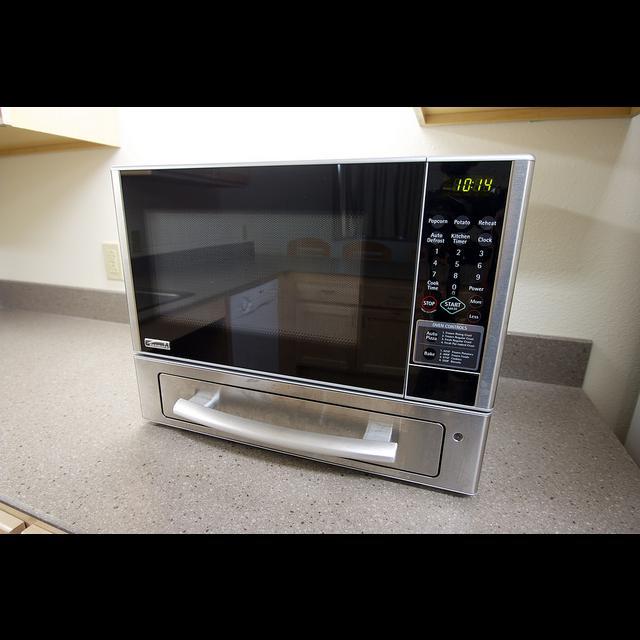Microwave: (110, 157, 531, 498)
